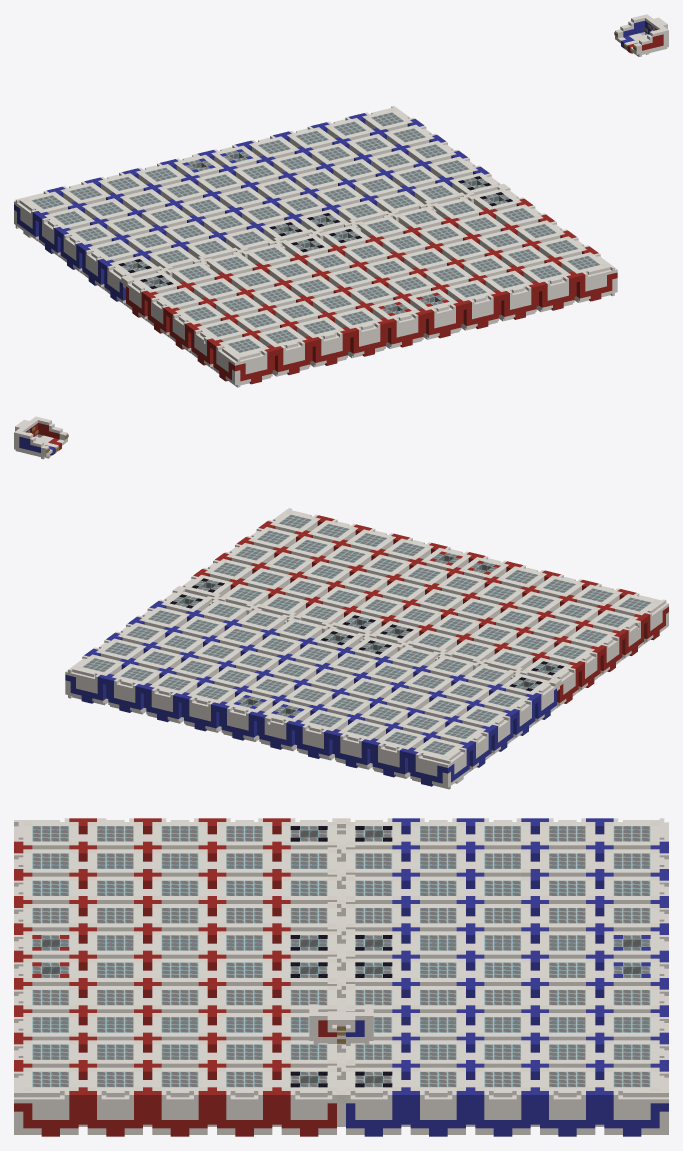
Rendered from minecraft.obj.
3 views of the same model, one above another, from view 1: azimuth 30°, elevation 25°; view 2: azimuth 150°, elevation 25°; view 3: azimuth 270°, elevation 25° (orthographic). The views are drawn at different scales.
Size of the model in its own units: 100 by 27.5 by 71.
